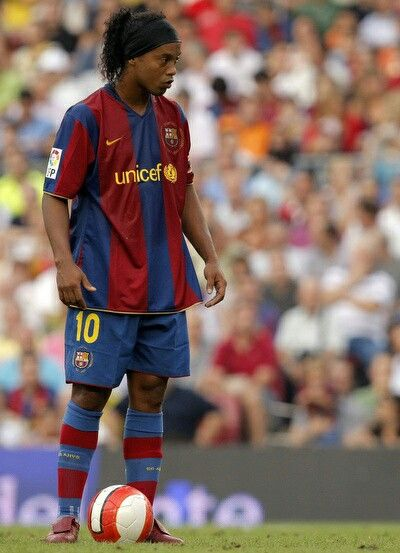football boots: (44, 515, 81, 544), (150, 518, 185, 546)
